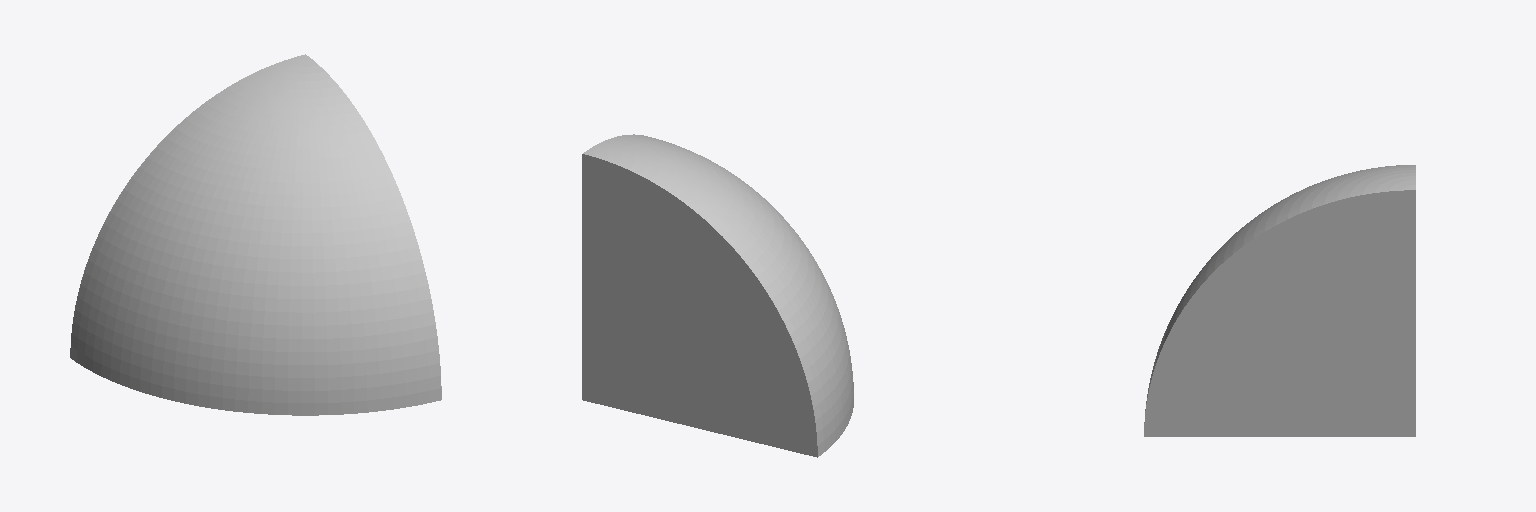
File: QuarterSphere.obj
3 renders of one model, left to right at view 1: azimuth 30°, elevation 25°; view 2: azimuth 150°, elevation 25°; view 3: azimuth 270°, elevation 25°, orthographic.
Parts seen in each view (by area): view 1: Sphere; view 2: Sphere; view 3: Sphere.
Boxes of the visible parts, box(x1,y1,x2,y2) form: Sphere: box(70, 54, 441, 415); Sphere: box(582, 134, 853, 457); Sphere: box(1144, 165, 1415, 436).
Bounding box in the file's own units: 5 × 5 × 5.